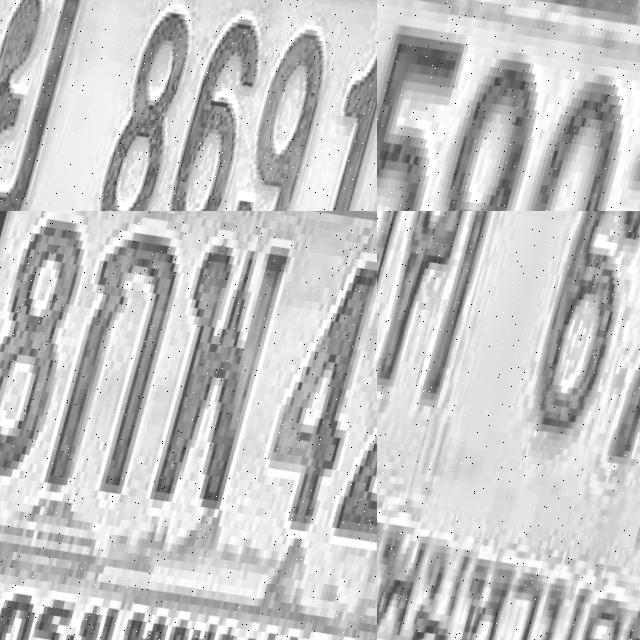license-plate: (0, 211, 377, 640), (377, 211, 640, 640), (0, 0, 377, 211), (377, 0, 640, 211)
